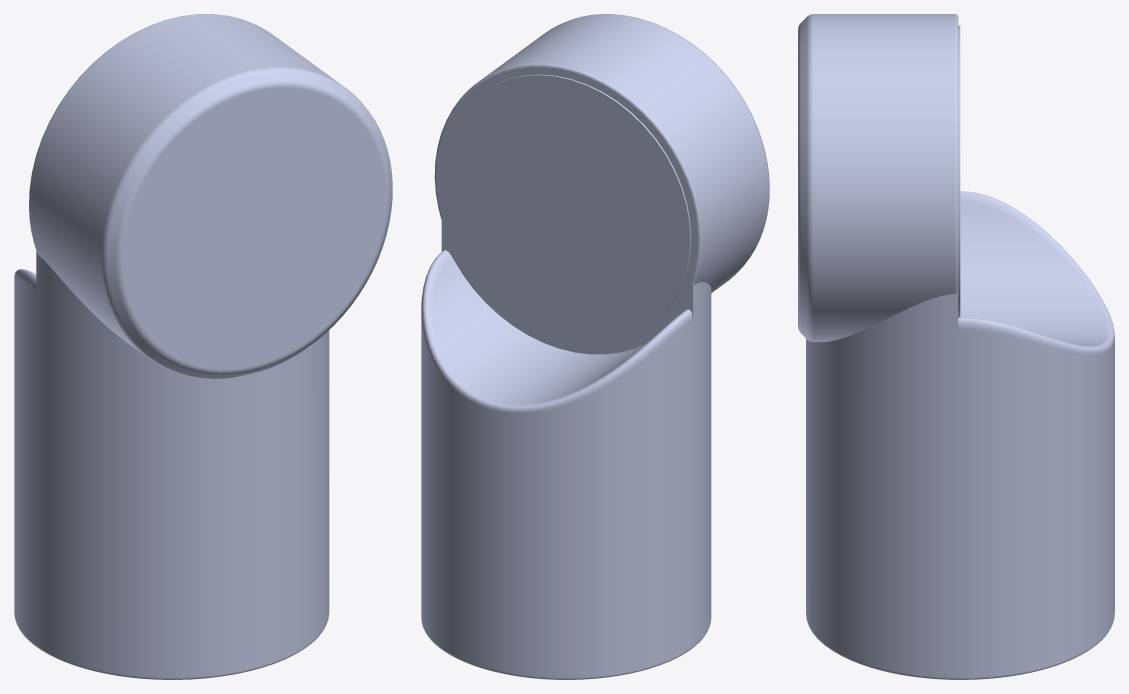
File: Link_Arm_6.obj
3 views of the same model, side by side, from view 1: azimuth 30°, elevation 25°; view 2: azimuth 150°, elevation 25°; view 3: azimuth 270°, elevation 25° (orthographic). The views are drawn at different scales.
Visible parts, largest first — view 1: Body1; view 2: Body1; view 3: Body1.
Part boxes in pixels (bbox=[...]): Body1: bbox=[14, 14, 392, 679]; Body1: bbox=[421, 14, 769, 679]; Body1: bbox=[798, 14, 1114, 679].
Size of the model in its own units: 8.5 by 16.75 by 8.2.
